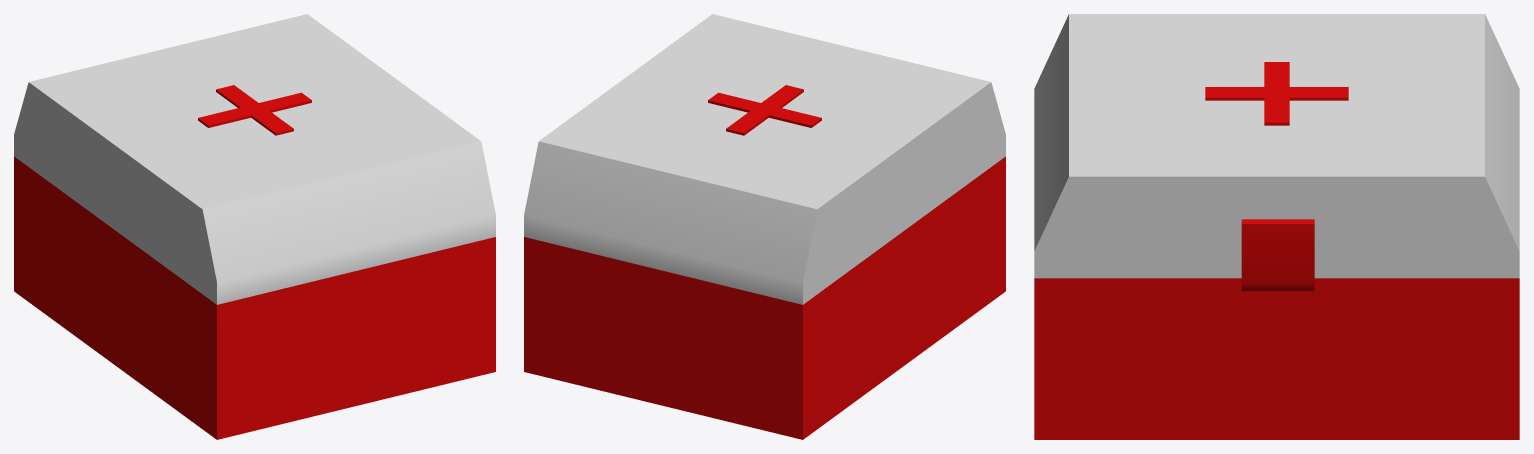
Rendered from botiquin.fbx.
3 views of the same model, side by side, from view 1: azimuth 30°, elevation 25°; view 2: azimuth 150°, elevation 25°; view 3: azimuth 270°, elevation 25° (orthographic). The views are drawn at different scales.
Parts seen in each view (by area): view 1: polySurface66; view 2: polySurface66; view 3: polySurface66.
Boxes of the visible parts, box(x1,y1,x2,y2) form: polySurface66: box(14, 14, 495, 439); polySurface66: box(524, 14, 1005, 439); polySurface66: box(1034, 14, 1519, 439).
Size of the model in its own units: 0.8163 by 0.605 by 1.
